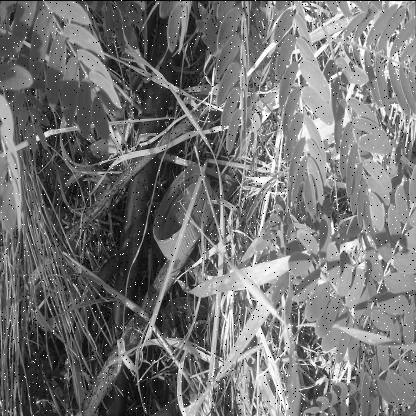plastic: (148, 166, 212, 259)
